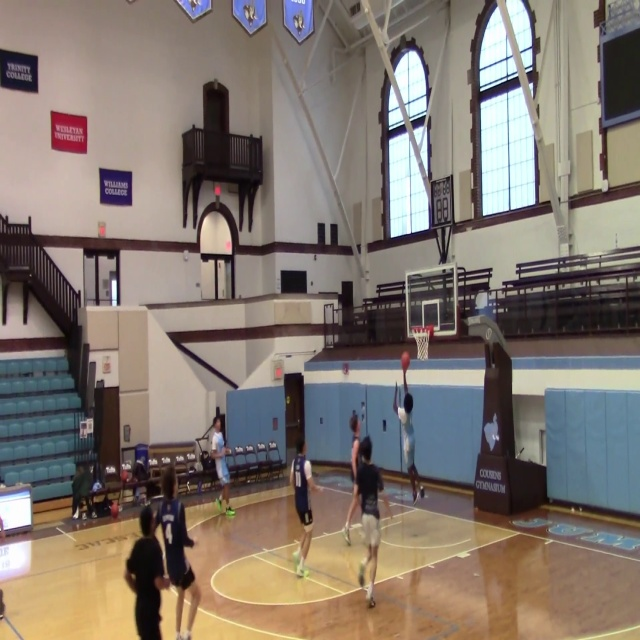Basketball: (155, 576, 170, 590), (401, 351, 410, 371)
